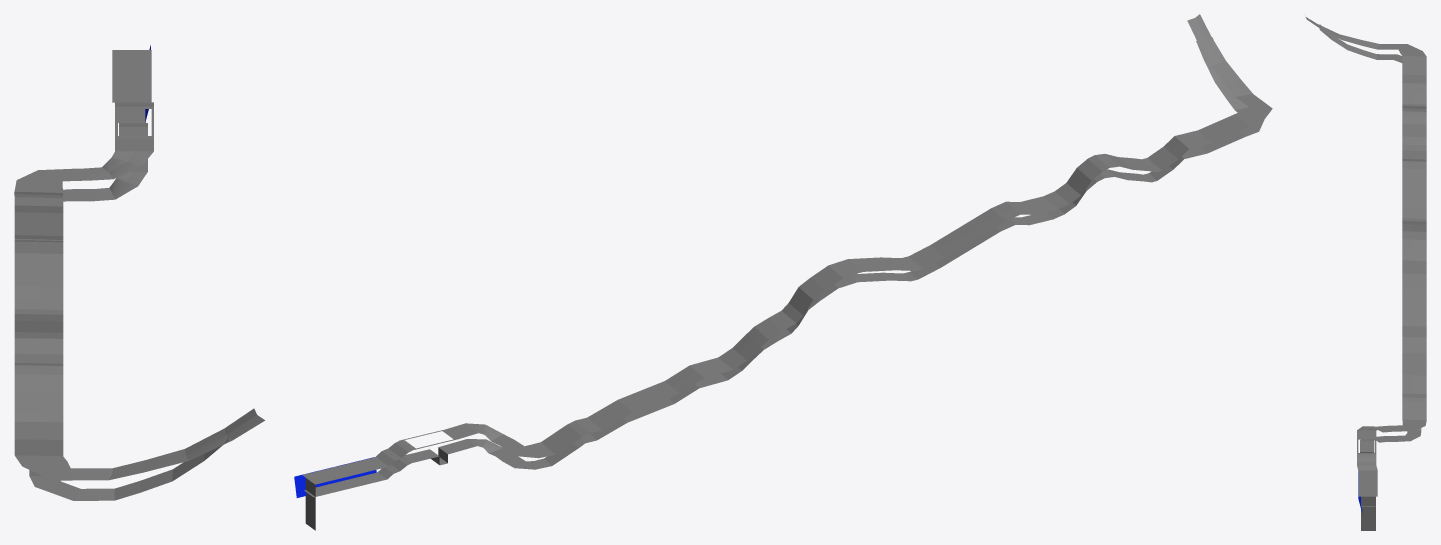
The model's file is Level 1 Reference.fbx.
The picture shows the model from 3 angles, left to right: view 1: azimuth 90°, elevation 25°; view 2: azimuth 210°, elevation 25°; view 3: azimuth 270°, elevation 25°; orthographic projection. The views are drawn at different scales.
Visible parts, largest first — view 1: Plane__2_, Plane; view 2: Plane__2_, Plane; view 3: Plane__2_, Plane, Plane__4_.
Boxes of the visible parts, left/top/right/bottom form: Plane__2_: left=14, top=50, right=264, bottom=480; Plane: left=29, top=109, right=228, bottom=500; Plane__2_: left=302, top=14, right=1272, bottom=484; Plane: left=304, top=37, right=1264, bottom=497; Plane__2_: left=1305, top=17, right=1426, bottom=496; Plane: left=1319, top=24, right=1421, bottom=506; Plane__4_: left=1361, top=496, right=1375, bottom=530.
Size of the model in its own units: 28311 by 7206 by 4458.
